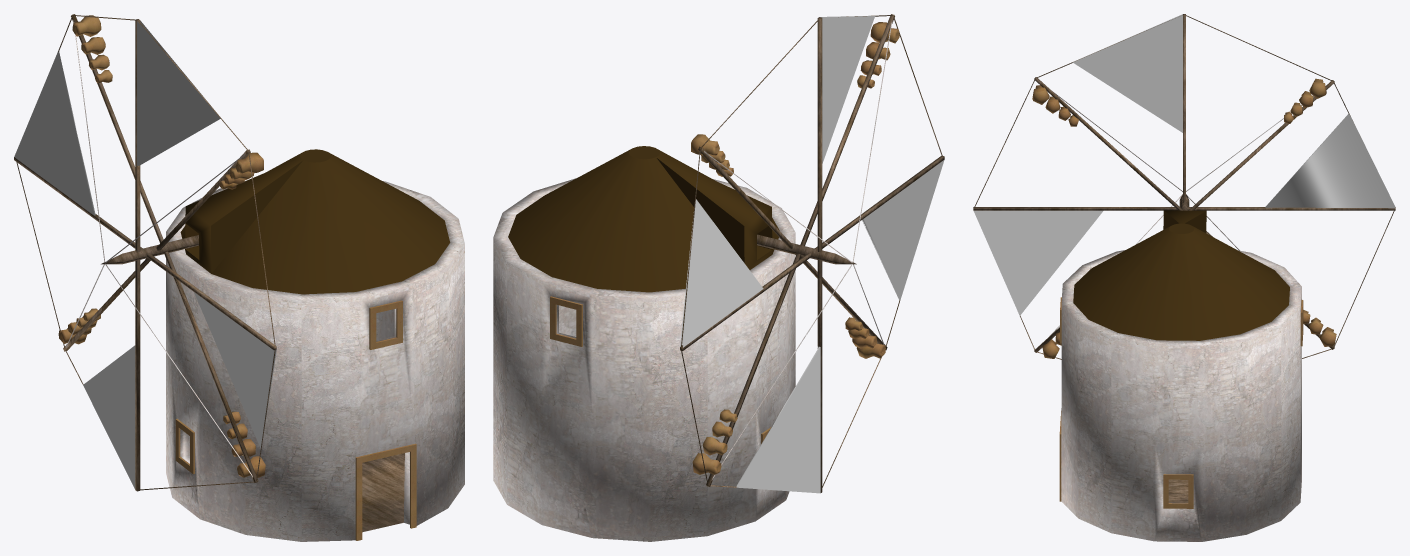
The model's file is windmil.fbx.
3 views of the same model, side by side, from view 1: azimuth 30°, elevation 25°; view 2: azimuth 150°, elevation 25°; view 3: azimuth 270°, elevation 25° (orthographic). The views are drawn at different scales.
Parts seen in each view (by area): view 1: windmilbottom, helice, windmilmiddle, windmiltop; view 2: windmilmiddle, helice, windmilbottom, windmiltop; view 3: helice, windmilmiddle, windmilbottom, windmiltop.
Part boxes in pixels (<box>): windmilbottom: <box>166,310,464,541</box>; helice: <box>14,14,276,491</box>; windmilmiddle: <box>166,181,464,421</box>; windmiltop: <box>180,149,450,294</box>; windmilmiddle: <box>493,178,795,420</box>; helice: <box>680,14,944,493</box>; windmilbottom: <box>493,309,795,541</box>; windmiltop: <box>508,146,779,292</box>; helice: <box>973,14,1395,359</box>; windmilmiddle: <box>1060,250,1303,443</box>; windmilbottom: <box>1059,384,1301,541</box>; windmiltop: <box>1073,210,1289,340</box>.
Size of the model in its own units: 446 by 622 by 585.
5 materials, 3 textured.
